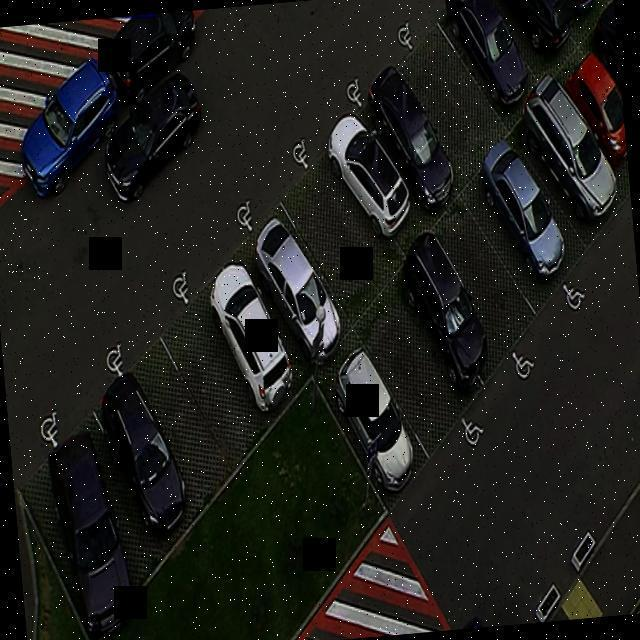car: (8, 402, 168, 632), (68, 340, 230, 527), (204, 192, 352, 368), (154, 262, 298, 440), (356, 267, 488, 461), (327, 68, 454, 252), (422, 202, 544, 382), (471, 147, 596, 320), (314, 342, 430, 514), (280, 130, 401, 290), (518, 98, 628, 240), (431, 0, 543, 112), (564, 61, 630, 202), (486, 0, 584, 56), (594, 0, 624, 130)
free: (388, 12, 501, 184)
